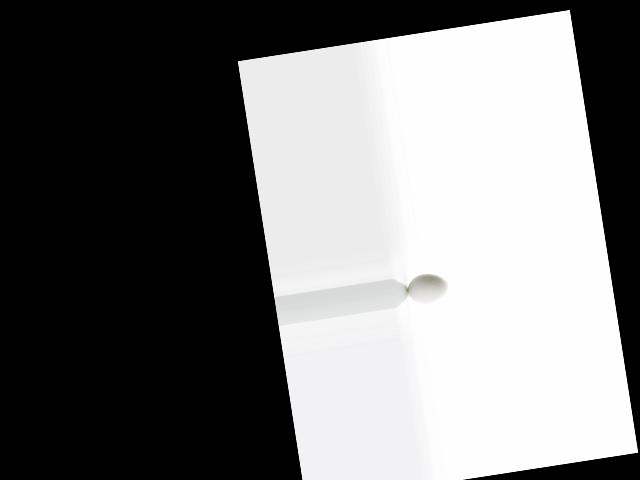egg: (405, 271, 449, 305)
